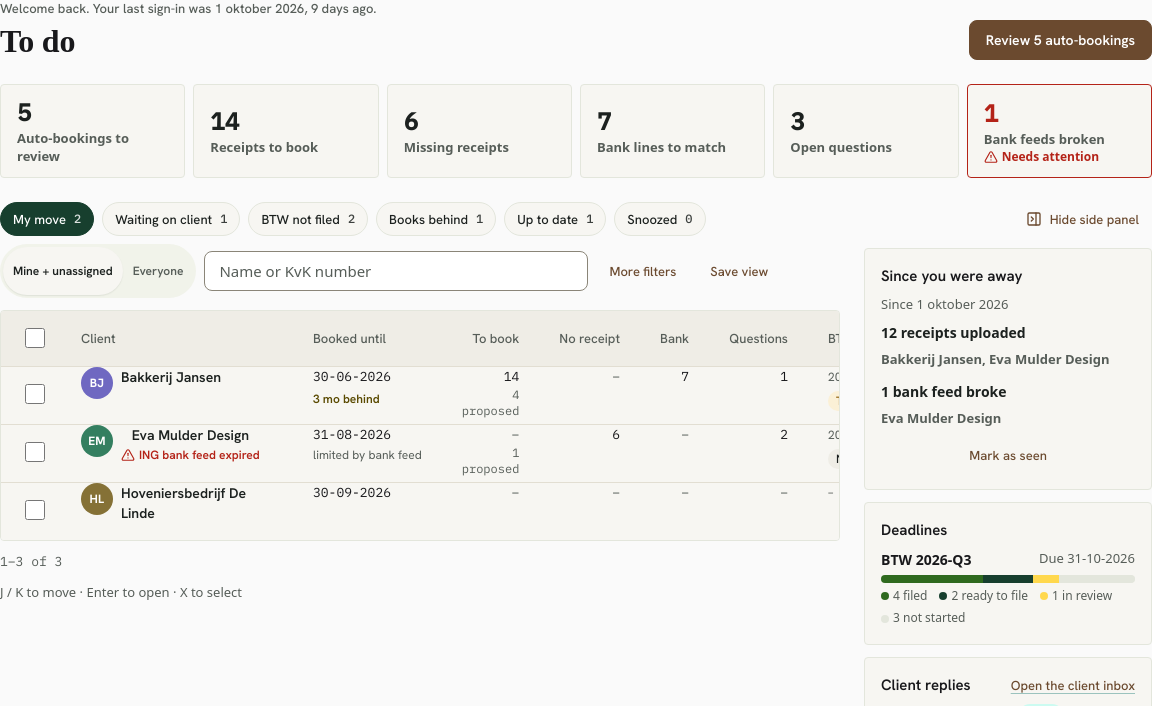
bulk actions › scopes the review sheet to the selected clients
This screenshot has width=1152, height=706.
Check: the row with test id "firm-row-adm-1" is shown, box 1,367 -> 840,425
Click the checkbox with test id "firm-select-adm-2".
click(35, 452)  # box 25,428 -> 45,476
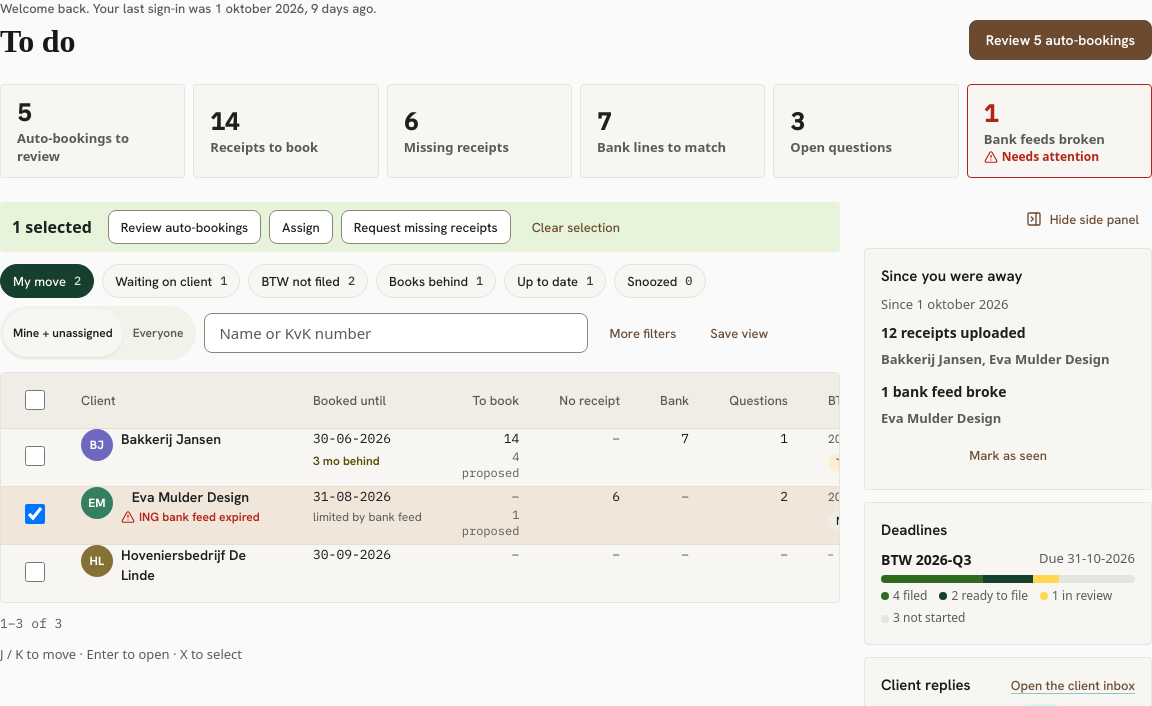
Click the button with test id "firm-bulk-review".
click(184, 227)  # box 108,210 -> 261,244
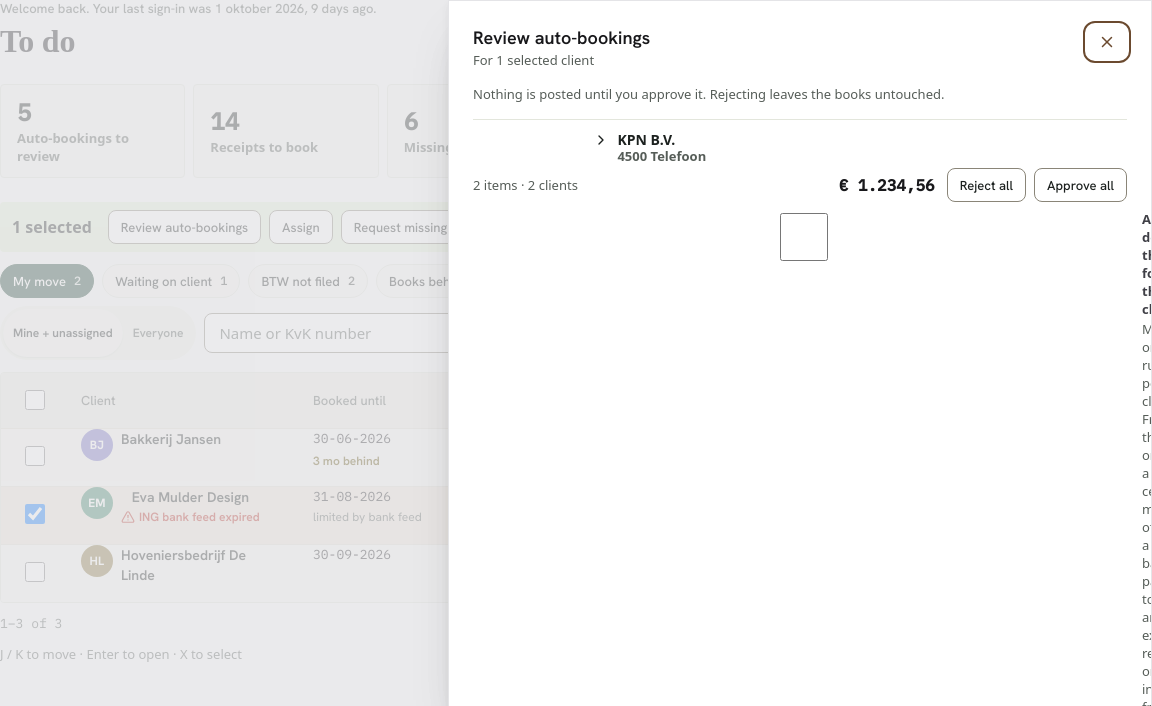
Check: the dialog with test id "firm-review-sheet" shows "For 1 selected client", box 473,51 -> 594,69
